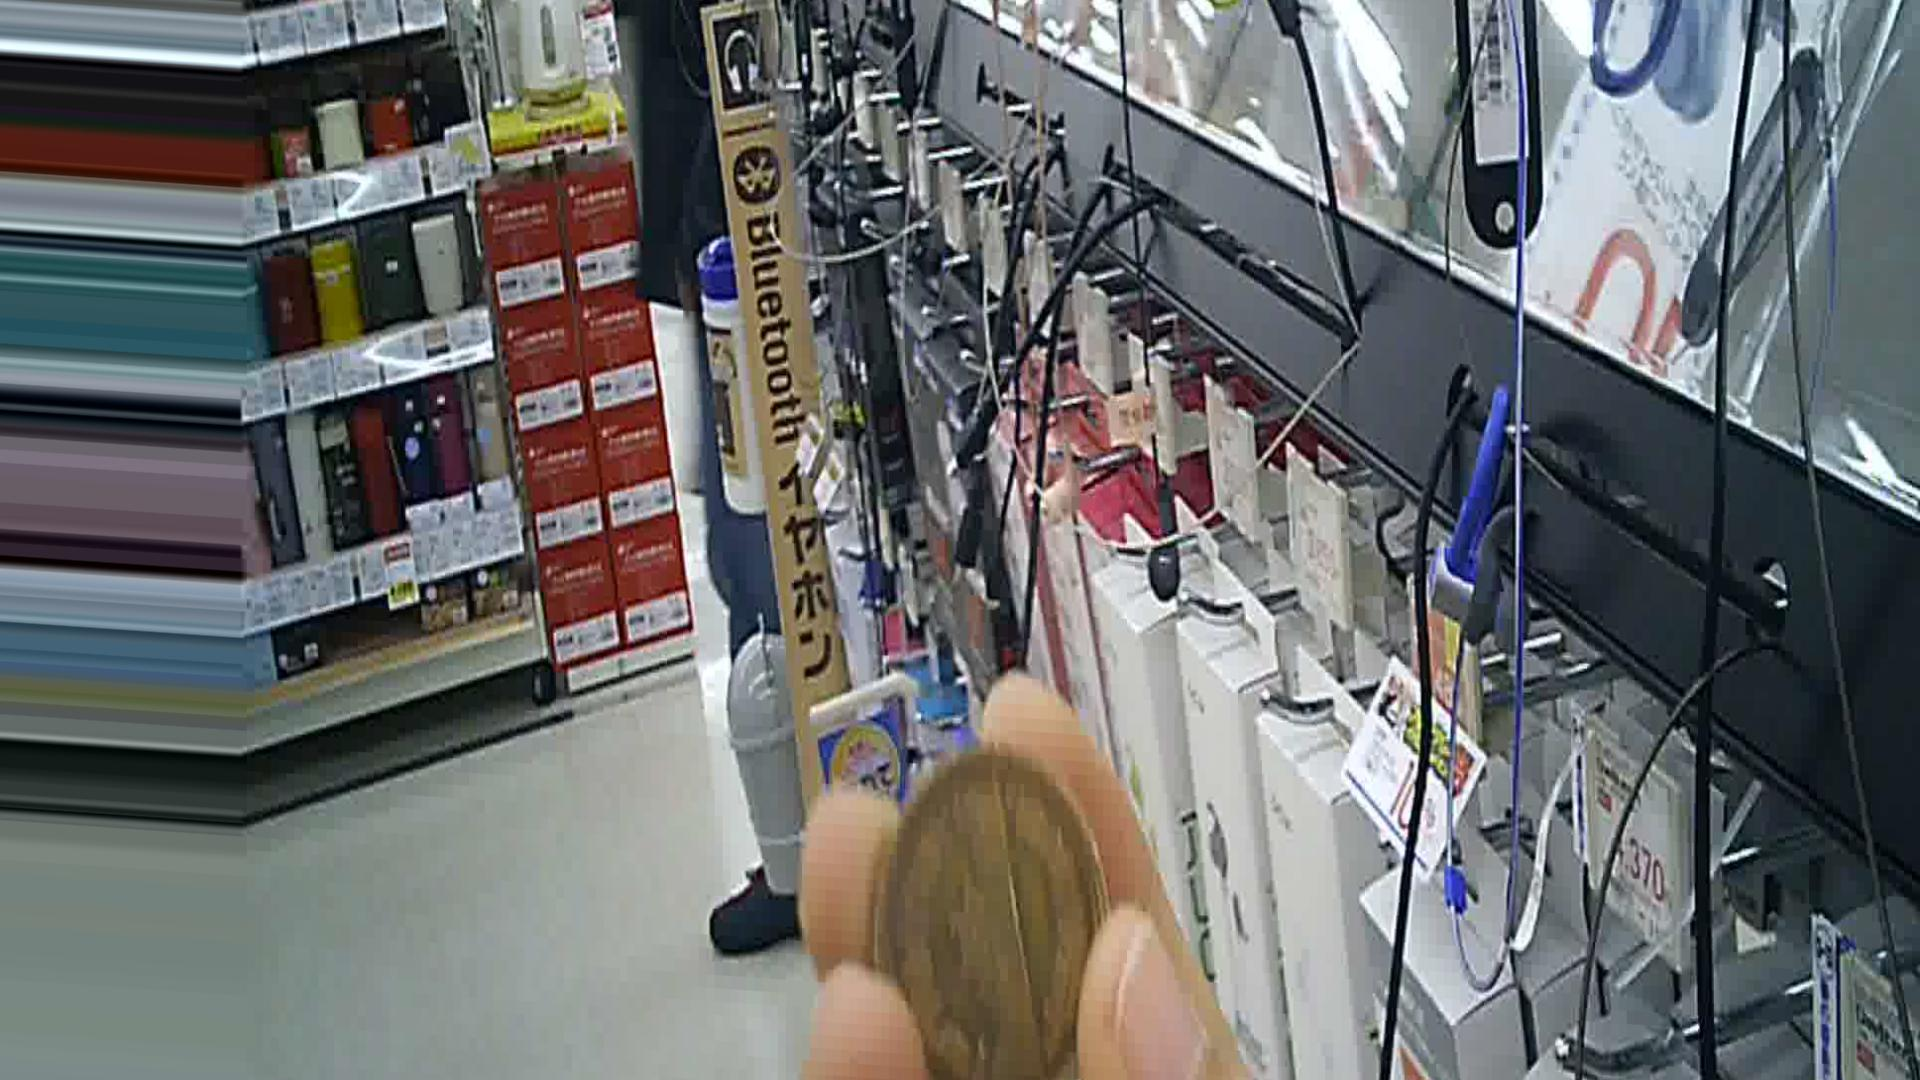10 Yen: (832, 760, 1159, 1068)
